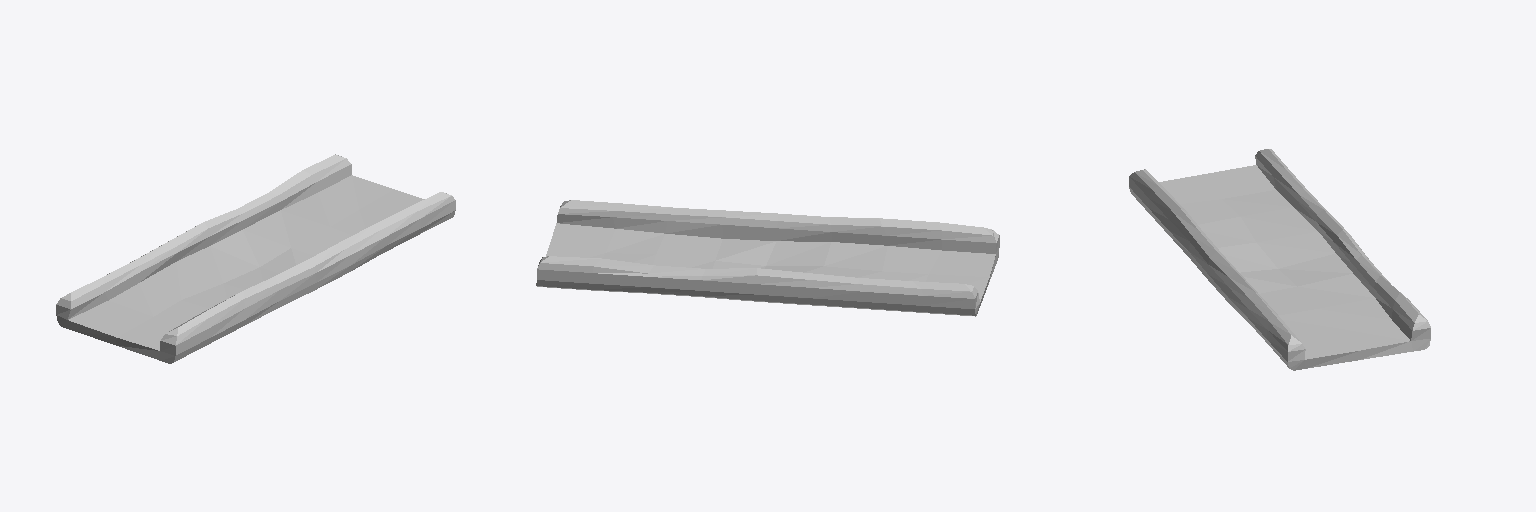
The model's file is Level2LastBridge.obj.
3 views of the same model, side by side, from view 1: azimuth 30°, elevation 25°; view 2: azimuth 150°, elevation 25°; view 3: azimuth 270°, elevation 25° (orthographic).
Parts seen in each view (by area): view 1: Level2LastBridge_Plane.026; view 2: Level2LastBridge_Plane.026; view 3: Level2LastBridge_Plane.026.
Part boxes in pixels (bbox=[...]): Level2LastBridge_Plane.026: bbox=[56, 154, 455, 363]; Level2LastBridge_Plane.026: bbox=[536, 200, 999, 316]; Level2LastBridge_Plane.026: bbox=[1129, 149, 1430, 370].
Bounding box in the file's own units: 74.28 × 5.82 × 47.77.